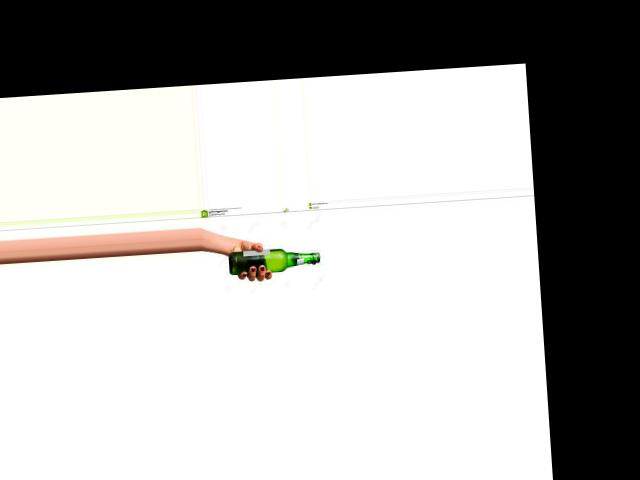beer: (228, 244, 321, 276)
